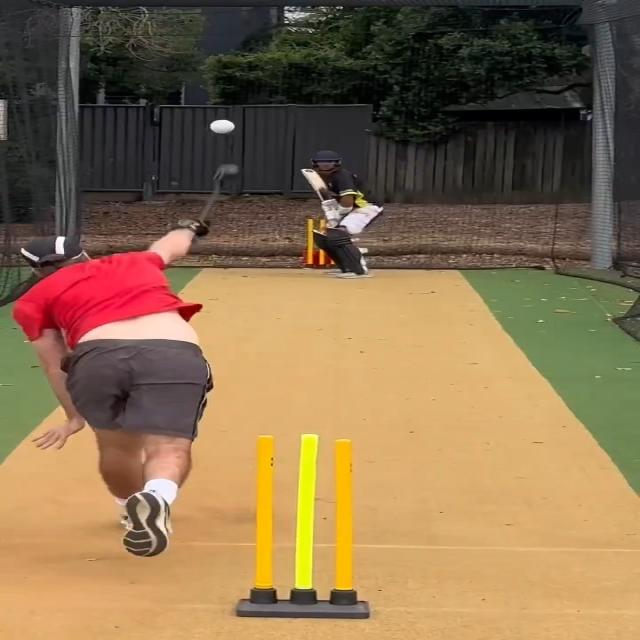ball: (206, 117, 240, 138)
stump: (235, 432, 373, 620)
